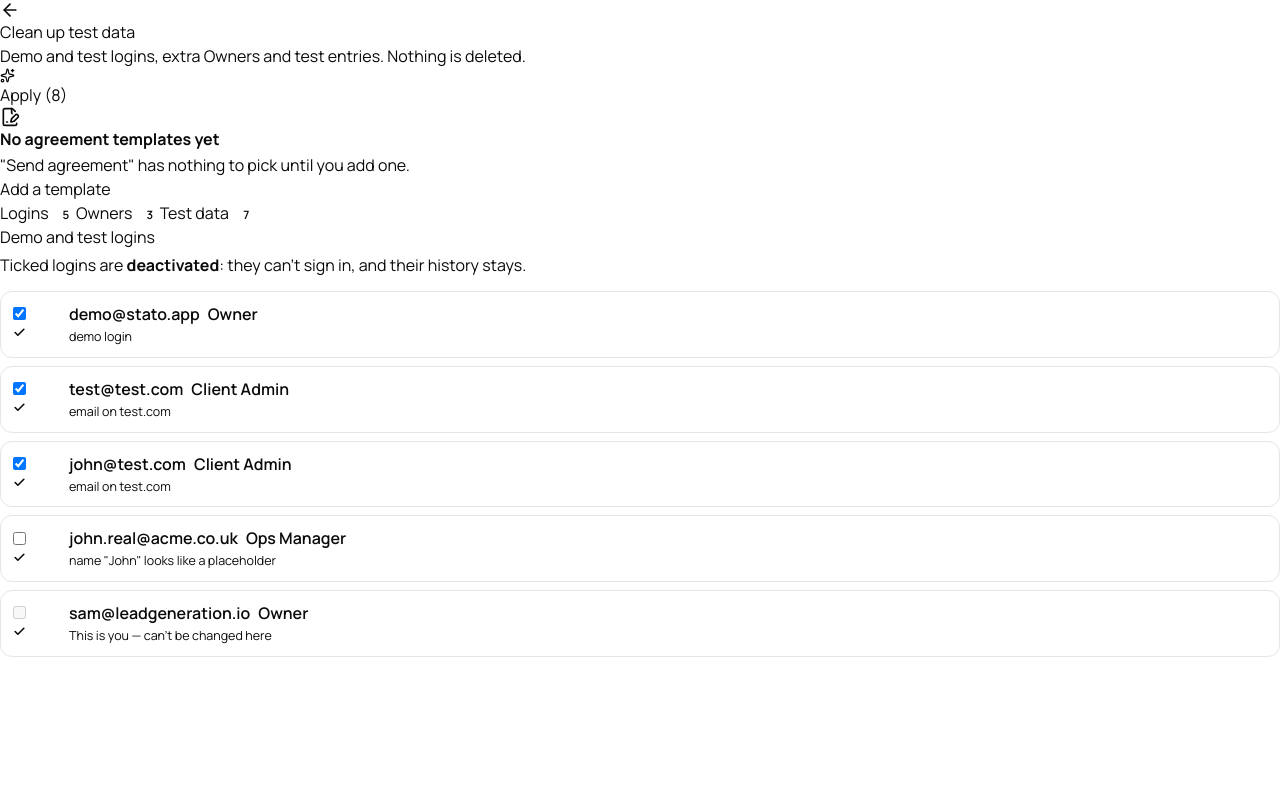
Test: Settings → Clean up (S8 + N6) › confirm dialog says exactly what will happen, then Apply sends exactly the selection
The width and height of the screenshot is (1280, 800).
Click the tab "Owners 3".
click(118, 213)  # box [76,201,160,225]
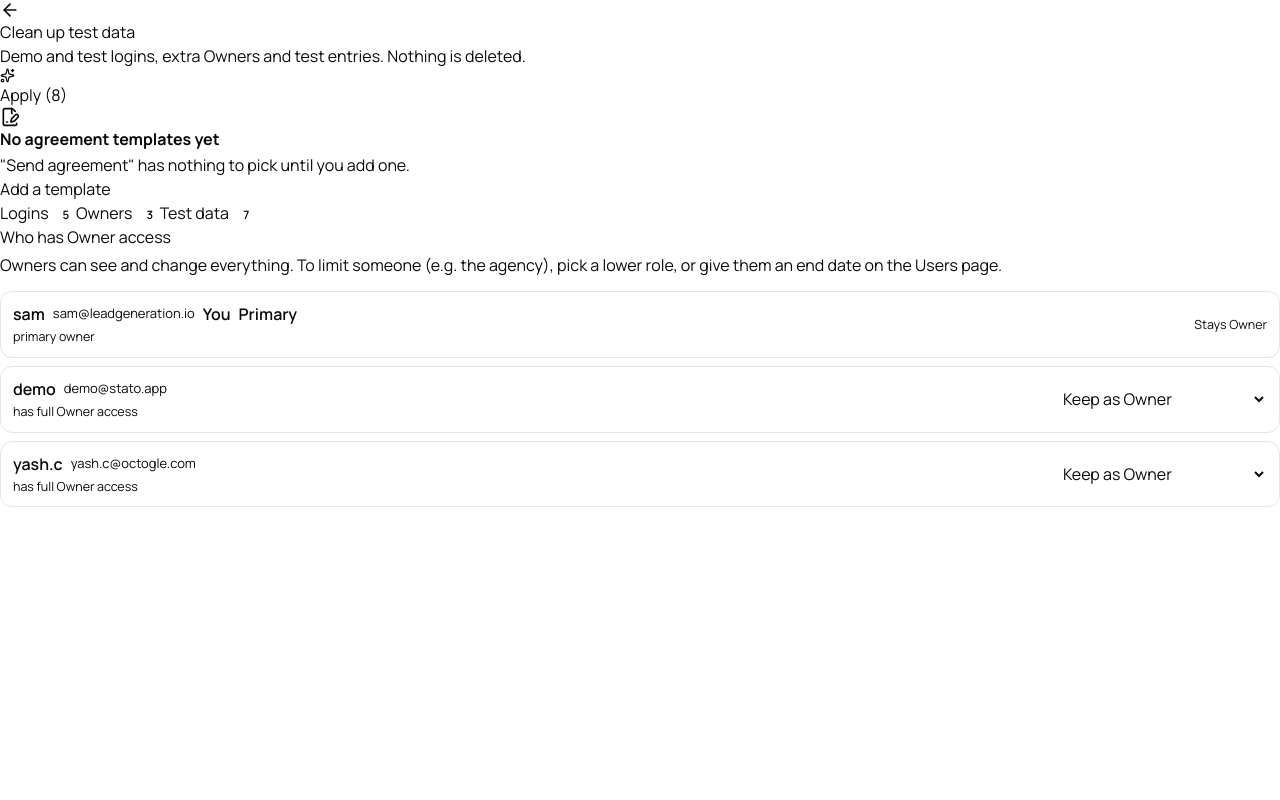
Select "Change to Ops Manager" in the dropdown named "New role for yash.c@octogle.com" at (1163, 474), box [1059,462,1267,486]
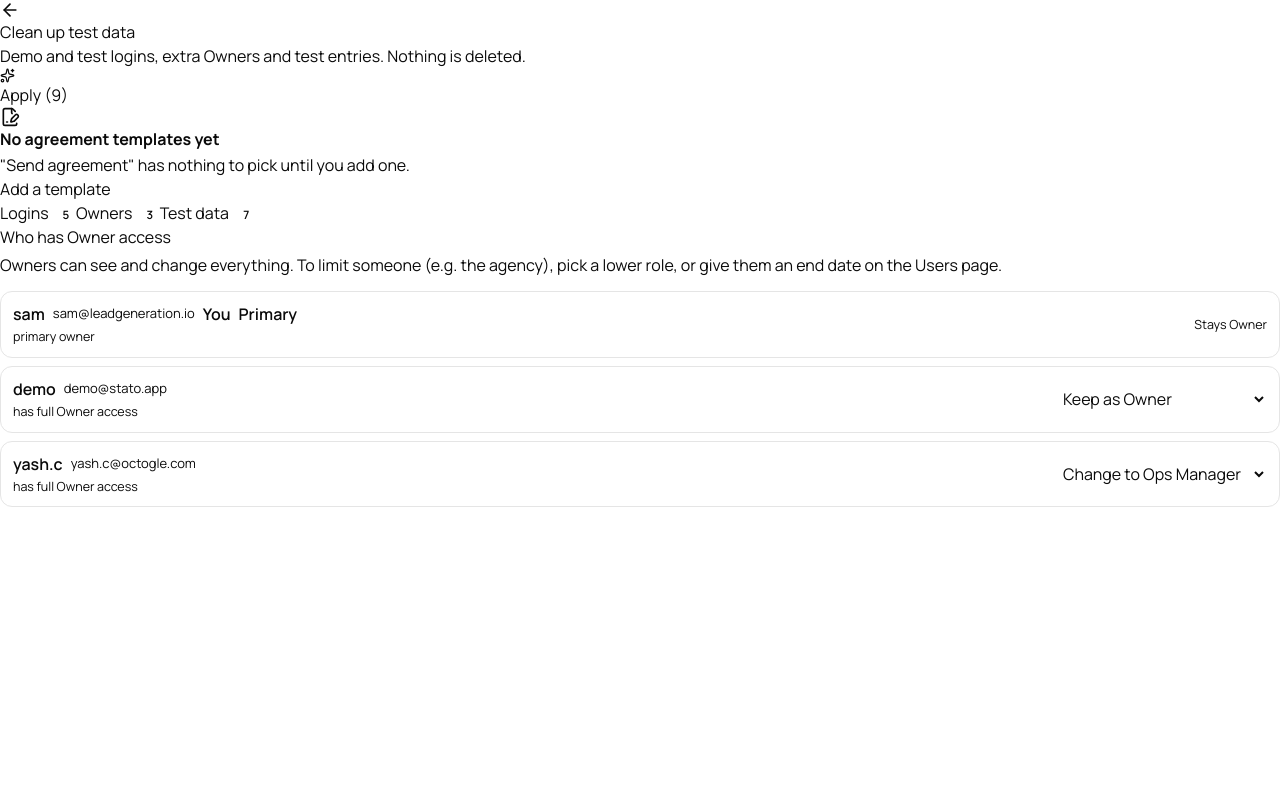
Click the button "Apply (9)".
click(34, 88)  # box [0,68,68,107]
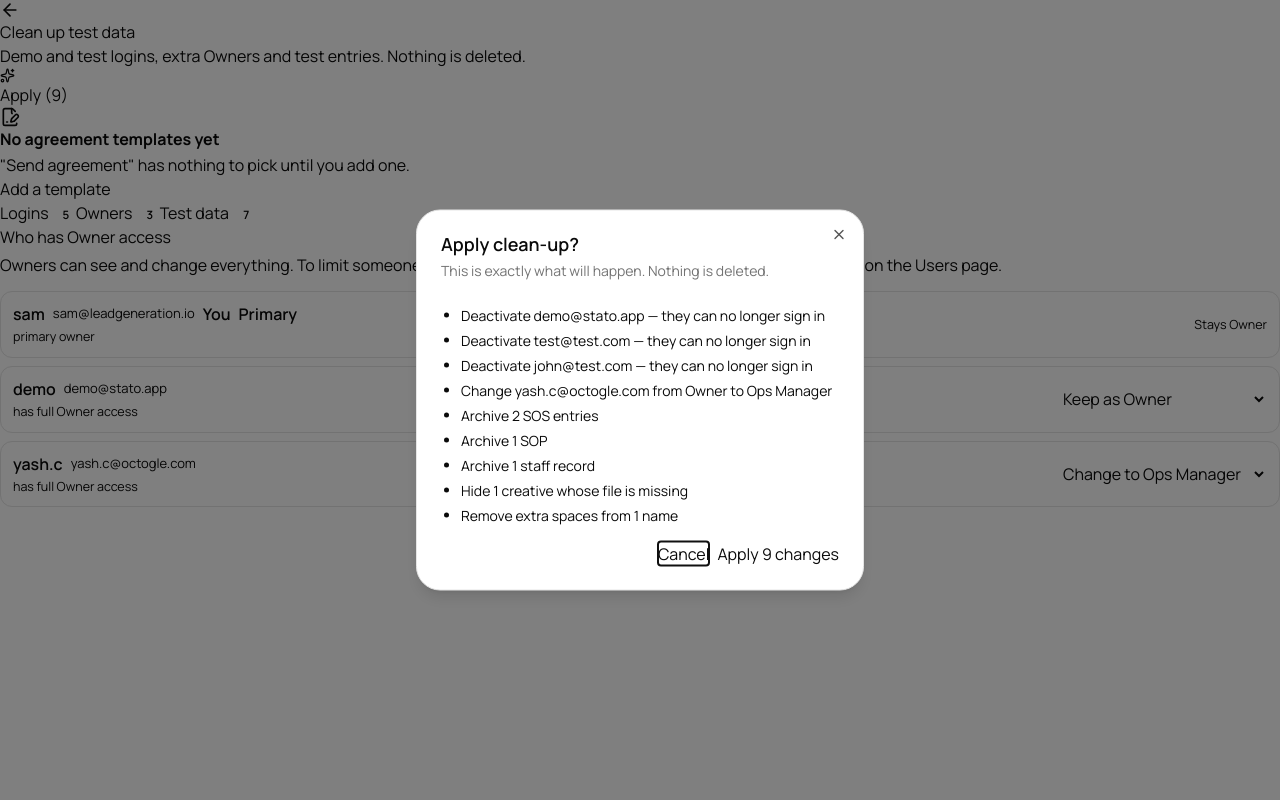
Check: the list shows "Deactivate test@test.com — they can no longer sign in", box [461,330,811,350]
Check: the list shows "Change yash.c@octogle.com from Owner to Ops Manager", box [461,380,832,400]
Check: the list shows "Archive 2 SOS entries", box [461,406,599,424]
Click the button "Apply 9 changes".
click(778, 554)  # box [717,542,839,566]
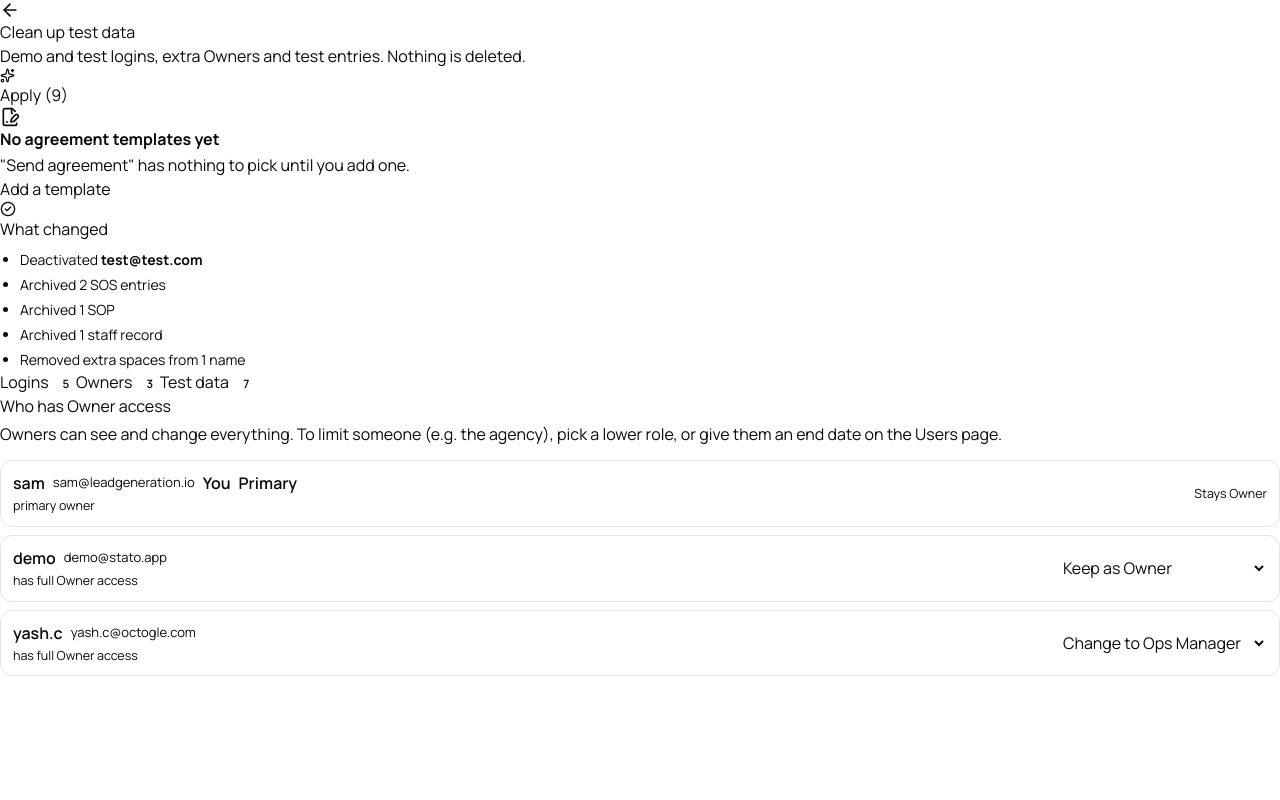
Check: the heading "What changed" is shown, box [0,201,108,240]
